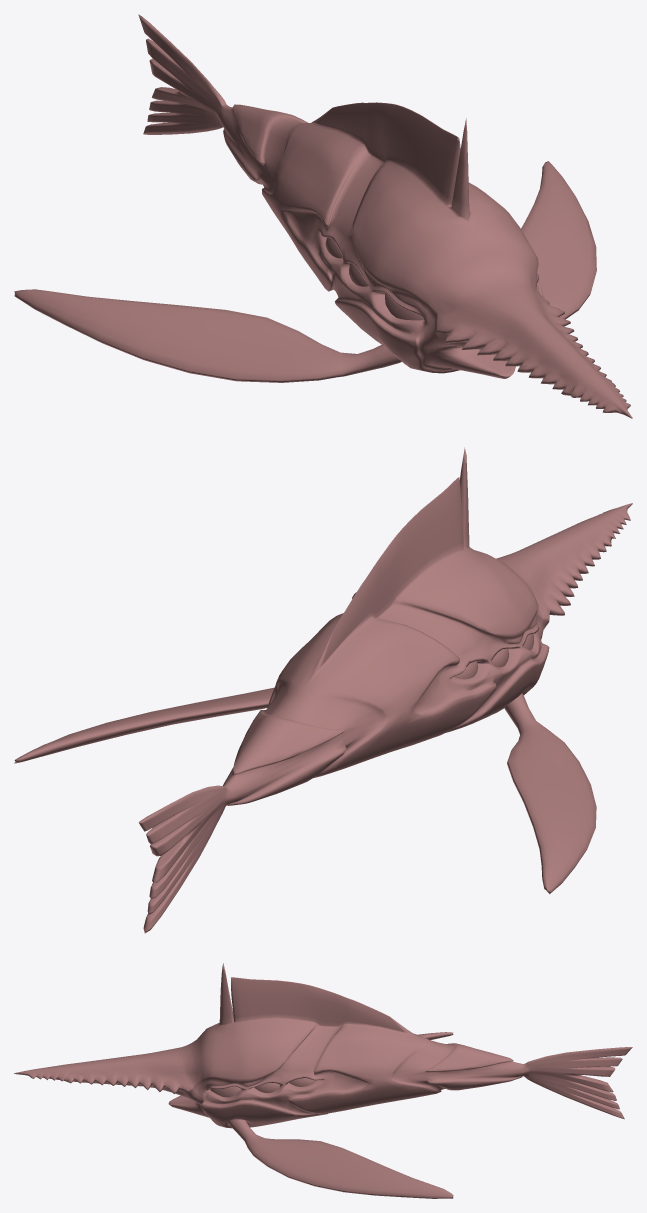
The model's file is Archer_Placeholder.fbx.
3 renders of one model, top to bottom at view 1: azimuth 30°, elevation 25°; view 2: azimuth 150°, elevation 25°; view 3: azimuth 270°, elevation 25°, orthographic. The views are drawn at different scales.
Visible parts, largest first — view 1: Archer_Body, Archer_Fins; view 2: Archer_Body, Archer_Fins; view 3: Archer_Body, Archer_Fins.
Boxes of the visible parts, x1,y1,x2,y2 form: Archer_Body: [138, 14, 632, 418]; Archer_Fins: [14, 161, 596, 382]; Archer_Body: [138, 447, 632, 933]; Archer_Fins: [14, 687, 596, 894]; Archer_Body: [14, 963, 632, 1128]; Archer_Fins: [228, 1032, 453, 1198].
Size of the model in its own units: 128 by 59.14 by 204.
